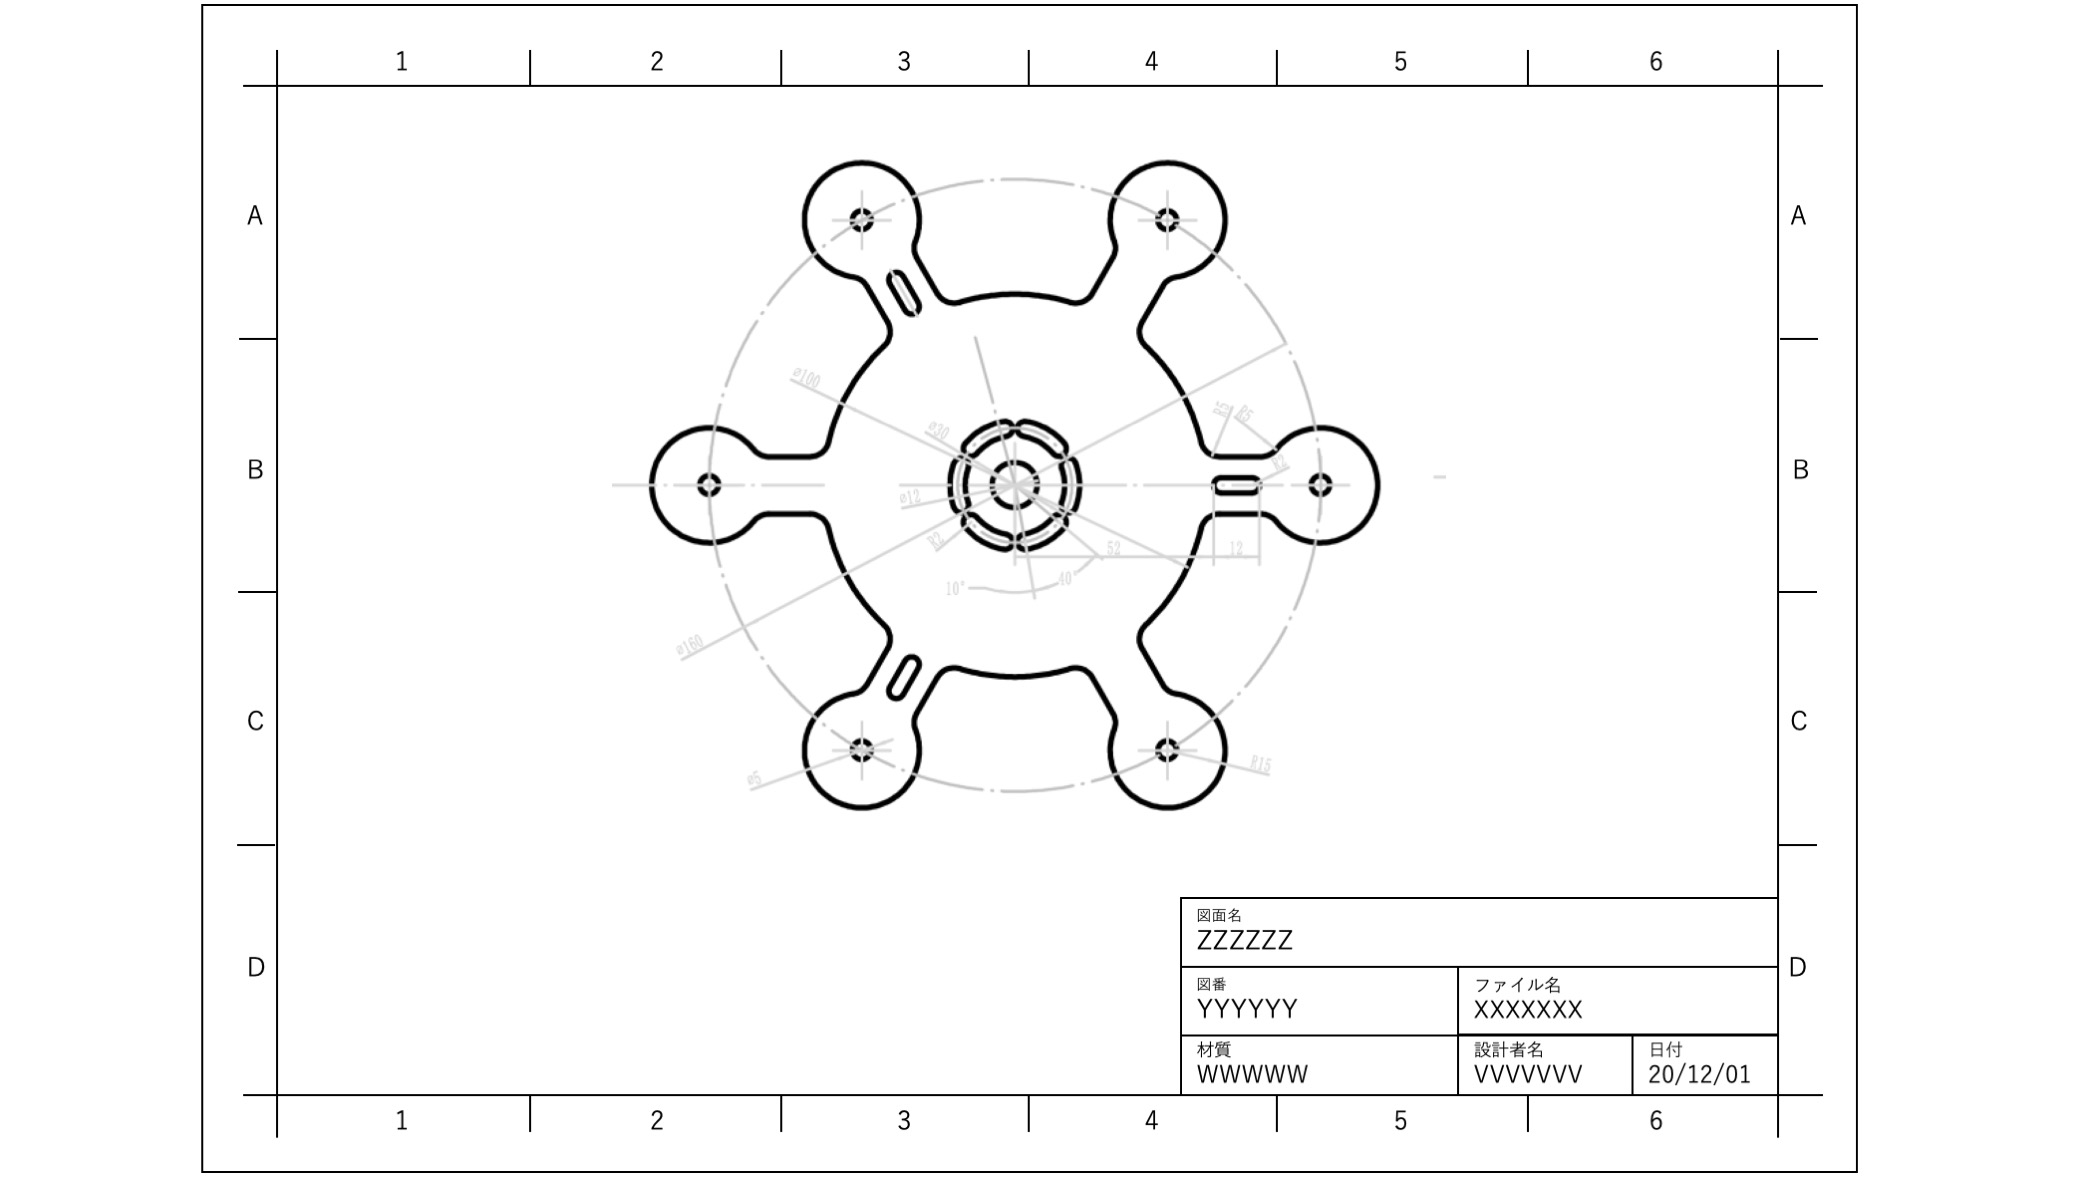circle: (987, 459, 1047, 509), (1148, 193, 1188, 236), (842, 196, 878, 238), (1152, 727, 1186, 766), (847, 734, 883, 766), (1301, 469, 1336, 500), (691, 470, 725, 500)
round_rectangle: (950, 410, 1017, 460), (958, 505, 1018, 557), (930, 448, 976, 515), (877, 640, 925, 704), (1017, 506, 1072, 559), (1014, 410, 1070, 461), (1051, 443, 1090, 516), (878, 261, 925, 319), (1207, 466, 1265, 502)
